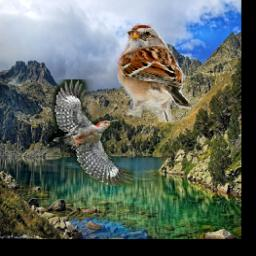Sparrow: (117, 23, 192, 122)
Woodpecker: (48, 79, 133, 186)
